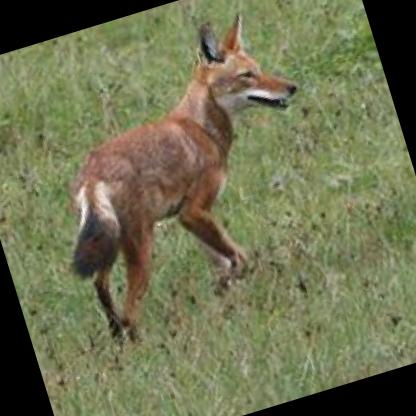dhole: (4, 0, 350, 353)
